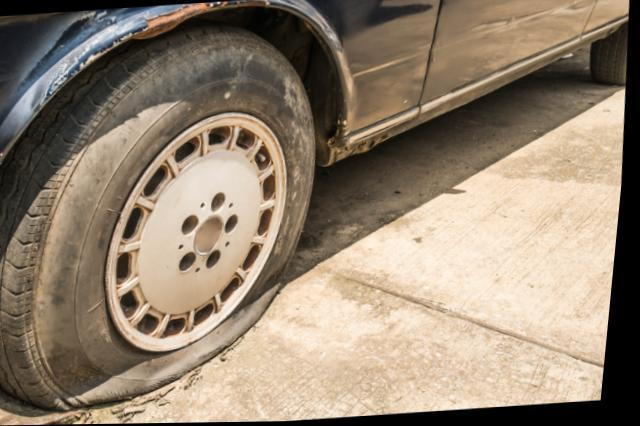tire flat: (0, 20, 317, 410)
